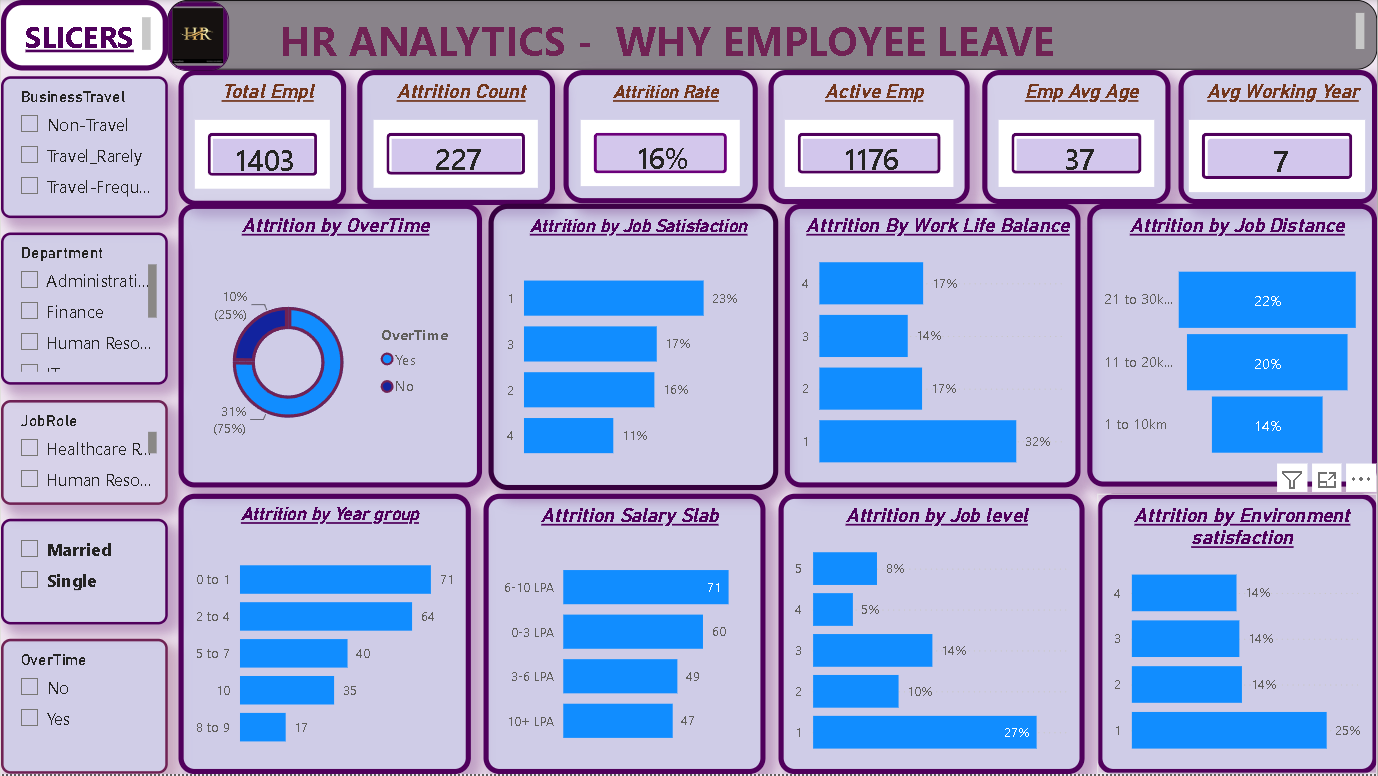

The page's visual inventory and layout, read from the dashboard file:
{"tool":"powerbi","page":{"name":"Page 1","canvas":[1280,720],"ordinal":0},"visuals":[{"type":"cardVisual","title":"Total Empl","fields":{"Data":["HR_Analytics-4.Total_Employee"]},"box":[164.7,67.1,156.2,126.2],"z":0},{"type":"cardVisual","title":"Attrition Count","fields":{"Data":["HR_Analytics-4.Number of Atrrition"]},"box":[331.4,68.6,173.3,125.6],"z":1000},{"type":"cardVisual","title":"Active Emp","fields":{"Data":["HR_Analytics-4.Active employee"]},"box":[714,66.3,187.1,124.7],"z":2000},{"type":"cardVisual","title":"Emp Avg Age","fields":{"Data":["Avg(HR_Analytics-4.Age)"]},"box":[912.8,65.1,175.3,124.7],"z":3000},{"type":"cardVisual","title":"Avg  Working Year","fields":{"Data":["Avg(HR_Analytics-4.YearsatCompany)"]},"box":[1095.3,67.1,177.3,124.3],"z":4000},{"type":"barChart","title":"Sum of Attrition count by Department","fields":{"Category":["HR_Analytics-4.WorkLifeBalance"],"Y":["HR_Analytics-4.attrition percent"]},"box":[713.7,193.3,285.6,262.2],"z":5000},{"type":"donutChart","fields":{"Category":["HR_Analytics-4.OverTime"],"Y":["HR_Analytics-4.attrition percent"]},"box":[164.7,193.3,272.1,265.9],"z":6000},{"type":"barChart","title":"Sum of Attrition count by SalarySlab","fields":{"Category":["HR_Analytics-4.SalarySlab"],"Y":["Sum(HR_Analytics-4.Attrition_count)"]},"box":[441.5,469,263.4,251.1],"z":7000},{"type":"barChart","fields":{"Category":["HR_Analytics-4.JobSatisfaction"],"Y":["HR_Analytics-4.attrition percent"]},"box":[441.9,193,262.8,273.3],"z":8000},{"type":"slicer","fields":{"Values":["HR_Analytics-4.MaritalStatus"]},"box":[0,482.6,155.1,98.5],"z":9000},{"type":"slicer","fields":{"Values":["HR_Analytics-4.BusinessTravel"]},"box":[0,71.4,155.1,131.7],"z":10000},{"type":"textbox","box":[155.1,0,1117.8,65.2],"z":11000},{"type":"image","box":[155.1,1.2,57.5,65],"z":12000},{"type":"slicer","fields":{"Values":["HR_Analytics-4.OverTime"]},"box":[0,594.6,155.1,125.6],"z":13000},{"type":"slicer","fields":{"Values":["HR_Analytics-4.JobRole"]},"box":[0,371.8,155.1,97.2],"z":14000},{"type":"textbox","box":[0,0,155.1,65.2],"z":15000},{"type":"slicer","fields":{"Values":["HR_Analytics-4.Department"]},"box":[0,216.7,155.1,141.6],"z":16000},{"type":"cardVisual","title":"Attrition  Rate","fields":{"Data":["HR_Analytics-4.attrition percent"]},"box":[523.3,67.4,181,124.3],"z":17000},{"type":"clusteredBarChart","fields":{"Y":["Sum(HR_Analytics-4.Attrition Count)"],"Category":["HR_Analytics-4.Yeargroup"]},"box":[165,469,272.1,251.1],"z":18000},{"type":"barChart","title":"Sum of Attrition count by Department","fields":{"Category":["HR_Analytics-4.JobLevel"],"Y":["HR_Analytics-4.attrition percent"]},"box":[709.5,466.6,305.3,253.6],"z":19000},{"type":"columnChart","title":"Sum of Attrition count by Department","fields":{"Y":["HR_Analytics-4.attrition percent"],"Category":["HR_Analytics-4.Custom"]},"box":[1010.4,193.3,269.6,263.4],"z":20000},{"type":"barChart","title":"Sum of Attrition count by Department","fields":{"Category":["HR_Analytics-4.EnvironmentSatisfaction"],"Y":["HR_Analytics-4.attrition percent"]},"box":[1018.6,459.3,261.6,260.5],"z":21000}]}

Visuals, with their boxes in screenshot pixels (x1, y1, x2, y2), scaled from the page's 1280x720 canvas onto the 1378x776 screenshot:
"Total Empl" cardVisual: 177,72,345,208
"Attrition Count" cardVisual: 357,74,543,209
"Active Emp" cardVisual: 769,71,970,206
"Emp Avg Age" cardVisual: 983,70,1171,205
"Avg  Working Year" cardVisual: 1179,72,1370,206
"Sum of Attrition count by Department" barChart: 768,208,1076,491
donutChart - HR_Analytics-4.OverTime x HR_Analytics-4.attrition percent: 177,208,470,495
"Sum of Attrition count by SalarySlab" barChart: 475,505,759,775
barChart - HR_Analytics-4.JobSatisfaction x HR_Analytics-4.attrition percent: 476,208,759,503
slicer - HR_Analytics-4.MaritalStatus: 0,520,167,626
slicer - HR_Analytics-4.BusinessTravel: 0,77,167,219
textbox: 167,0,1370,70
image: 167,1,229,71
slicer - HR_Analytics-4.OverTime: 0,641,167,775
slicer - HR_Analytics-4.JobRole: 0,401,167,505
textbox: 0,0,167,70
slicer - HR_Analytics-4.Department: 0,234,167,386
"Attrition  Rate" cardVisual: 563,73,758,207
clusteredBarChart - Sum(HR_Analytics-4.Attrition Count) x HR_Analytics-4.Yeargroup: 178,505,471,775
"Sum of Attrition count by Department" barChart: 764,503,1092,775
"Sum of Attrition count by Department" columnChart: 1088,208,1377,492
"Sum of Attrition count by Department" barChart: 1097,495,1377,775
